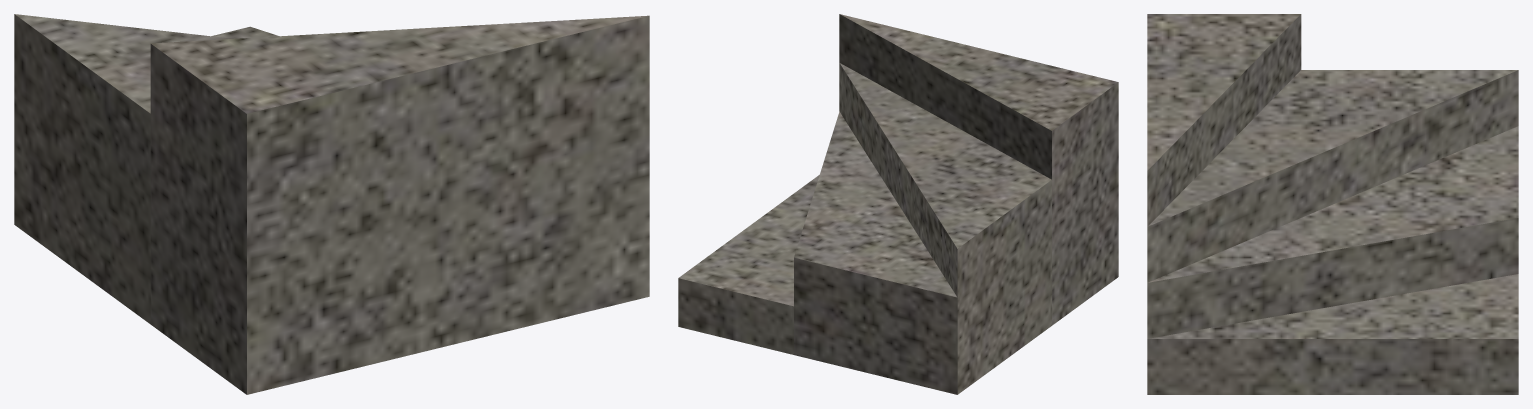
Rendered from H_SpiralStairsR1mA.obj.
The picture shows the model from 3 angles, left to right: view 1: azimuth 30°, elevation 25°; view 2: azimuth 150°, elevation 25°; view 3: azimuth 270°, elevation 25°; orthographic projection. The views are drawn at different scales.
Size of the model in its own units: 1 by 0.6667 by 1.
1 material, 1 textured.
